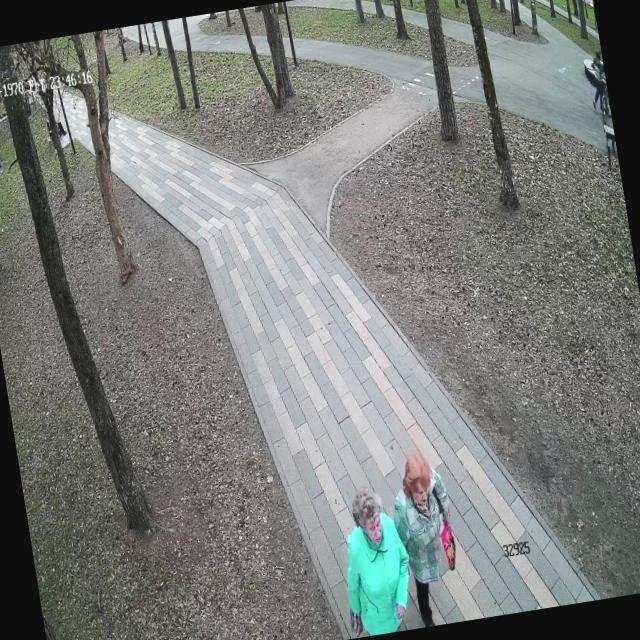person: (387, 444, 469, 628), (328, 482, 418, 638)
